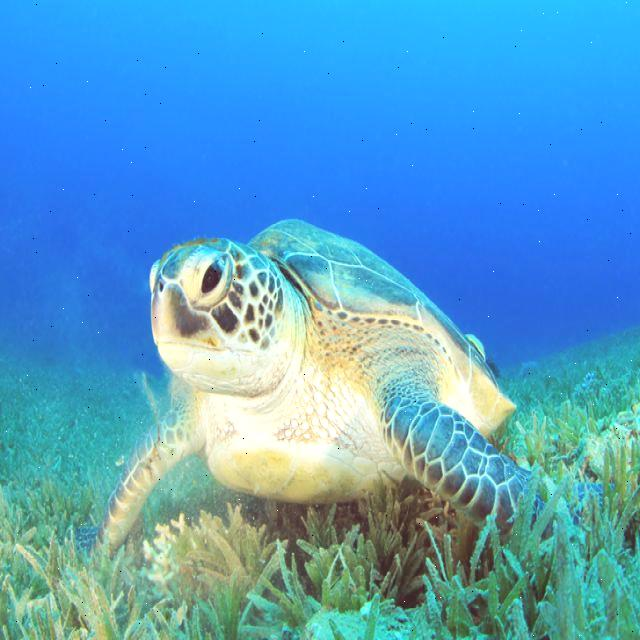tortoise: (92, 209, 562, 581)
